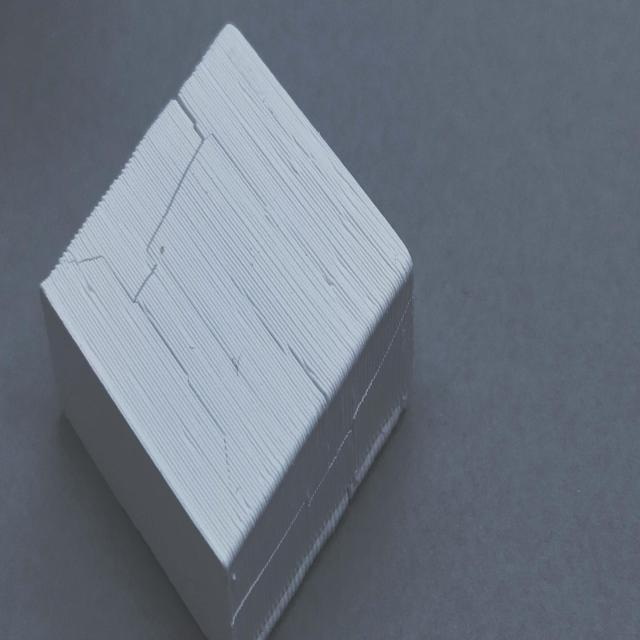cracking: (65, 81, 227, 315)
